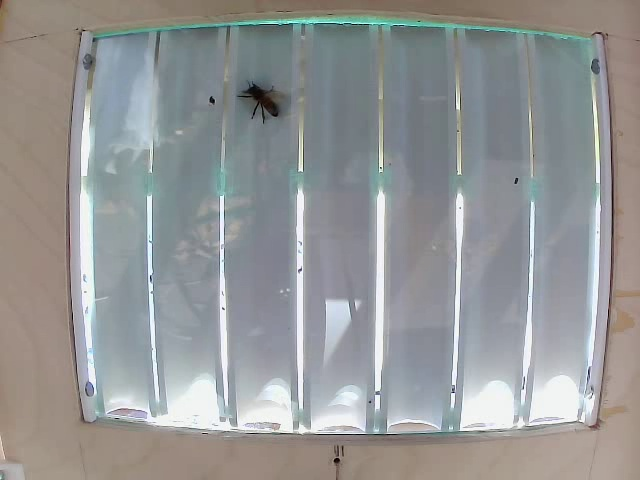bee: (238, 66, 279, 136)
